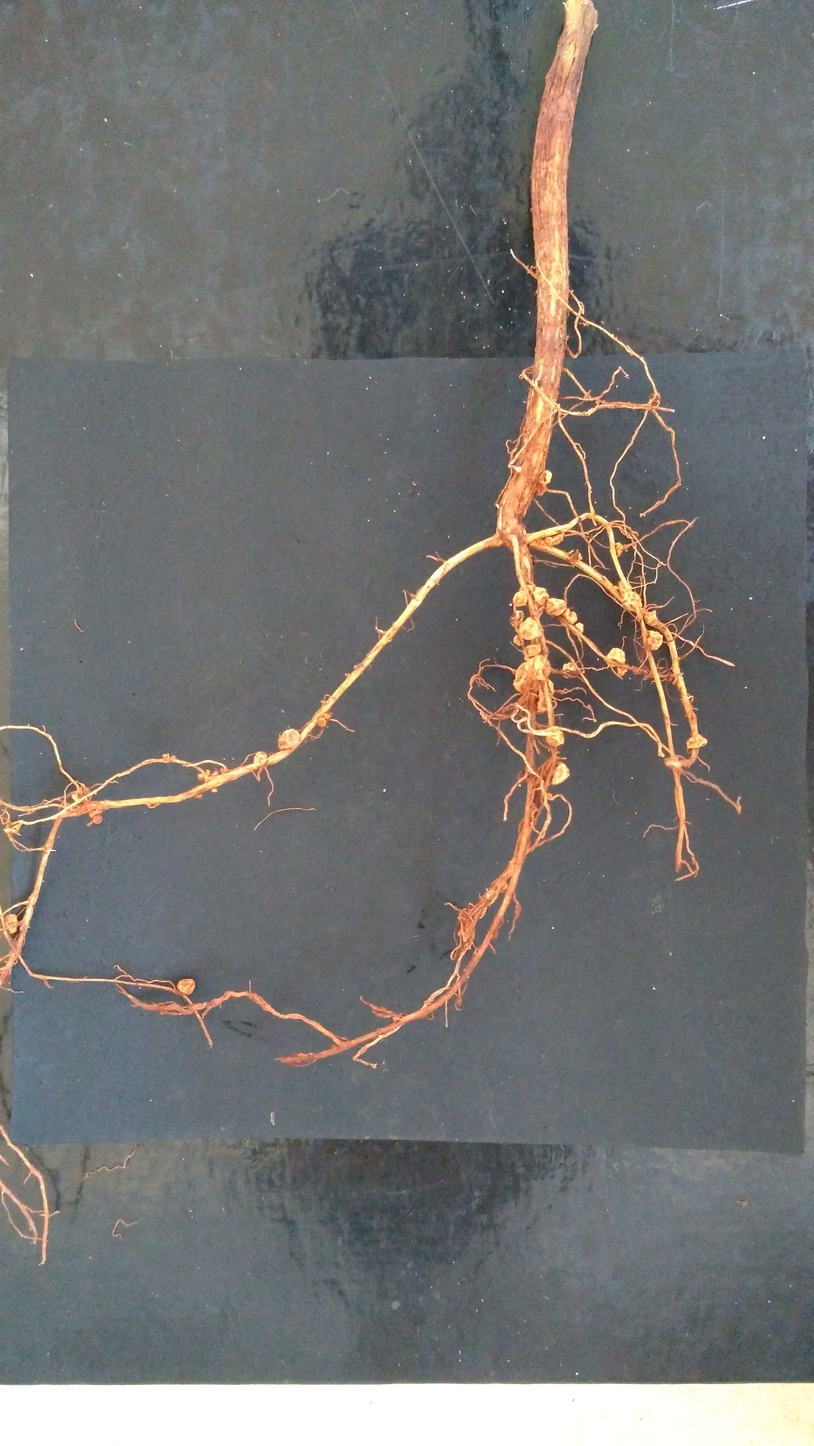nodule: (512, 655, 551, 692), (485, 878, 508, 905), (537, 679, 556, 711), (545, 761, 570, 785), (518, 617, 543, 641), (607, 648, 627, 676), (522, 643, 548, 662), (278, 728, 300, 750), (621, 589, 643, 611), (643, 630, 663, 651), (558, 607, 578, 627), (545, 728, 565, 747), (545, 598, 566, 616), (543, 531, 565, 547), (685, 734, 708, 749), (72, 786, 92, 803), (176, 978, 196, 995), (456, 925, 476, 942), (533, 587, 550, 605), (456, 907, 474, 924), (512, 590, 528, 607), (89, 805, 103, 824), (618, 580, 632, 599), (4, 913, 17, 933), (316, 712, 332, 728), (643, 609, 658, 626), (562, 662, 577, 678), (510, 609, 524, 626), (538, 468, 553, 483), (610, 542, 624, 558), (568, 550, 584, 564), (254, 751, 267, 767), (519, 584, 536, 595), (570, 622, 584, 635), (536, 480, 547, 496), (517, 770, 531, 782), (197, 769, 210, 780), (513, 633, 524, 646), (162, 753, 176, 763), (650, 392, 660, 404), (671, 672, 679, 685), (194, 792, 203, 799), (211, 786, 219, 793), (209, 770, 219, 775)
